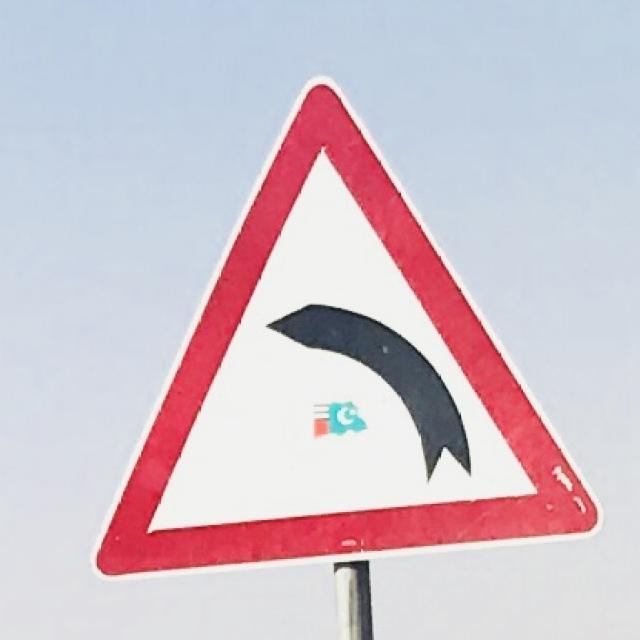left hand curve: (94, 78, 598, 578)
